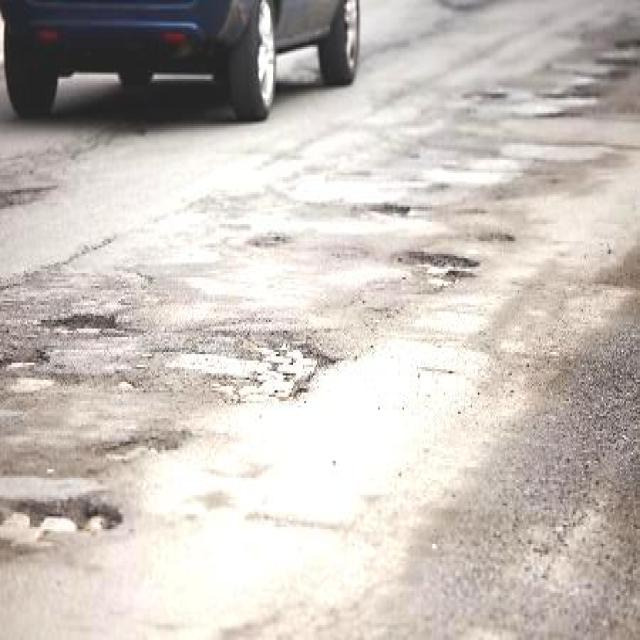pothole: (212, 335, 337, 410), (0, 482, 127, 546), (391, 248, 479, 294), (104, 427, 176, 469), (0, 348, 60, 397), (45, 307, 124, 337), (0, 180, 54, 213), (461, 84, 506, 110), (245, 227, 288, 253), (364, 200, 413, 218), (476, 225, 515, 246)
